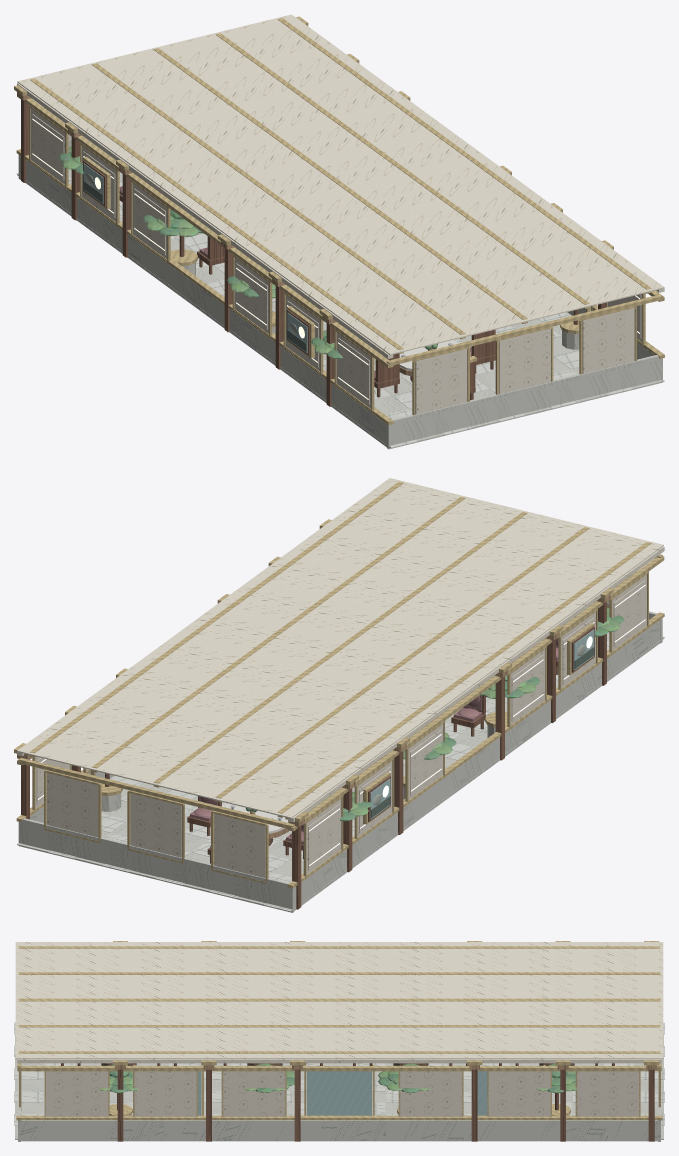
File: cafe.gltf
3 renders of one model, top to bottom at view 1: azimuth 30°, elevation 25°; view 2: azimuth 150°, elevation 25°; view 3: azimuth 270°, elevation 25°, orthographic. The views are drawn at different scales.
Visible parts, largest first — view 1: ivory, gold, marble, cream, oakdark, tile, plant, leaf, sky; view 2: ivory, gold, marble, cream, oakdark, tile, plant, wine, leaf, sky; view 3: ivory, gold, marble, cream, glass, oakdark, tile, plant, leaf, oak.
Part boxes in pixels (box(x1,y1,x2,y2)): ivory: box(17, 14, 664, 358); gold: box(14, 16, 664, 424); marble: box(17, 137, 664, 449); cream: box(30, 108, 642, 414); oakdark: box(21, 99, 605, 406); tile: box(16, 173, 632, 447); plant: box(59, 142, 437, 359); leaf: box(62, 146, 334, 354); sky: box(83, 163, 307, 353); ivory: box(17, 478, 664, 822); gold: box(14, 481, 664, 888); marble: box(17, 601, 664, 912); cream: box(35, 574, 646, 877); oakdark: box(21, 602, 606, 909); tile: box(48, 636, 664, 911); plant: box(245, 604, 624, 821); wine: box(190, 638, 558, 848); leaf: box(321, 607, 620, 816); sky: box(370, 629, 594, 819); ivory: box(15, 942, 663, 1063); gold: box(16, 941, 662, 1120); marble: box(15, 1034, 663, 1141); cream: box(45, 1071, 640, 1116); glass: box(198, 1071, 487, 1115); oakdark: box(61, 1063, 654, 1141); tile: box(14, 1022, 664, 1125); plant: box(101, 1065, 575, 1092); leaf: box(98, 1063, 577, 1090); oak: box(106, 1063, 656, 1069).
Bounding box in the file's own units: 9.51 × 2.99 × 20.96.
20 materials, 20 textured.
